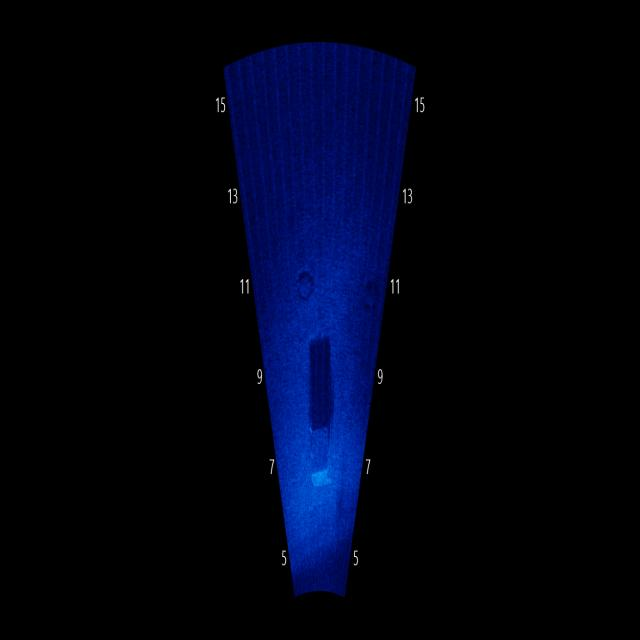circle: (292, 256, 322, 316)
square: (297, 412, 338, 502)
